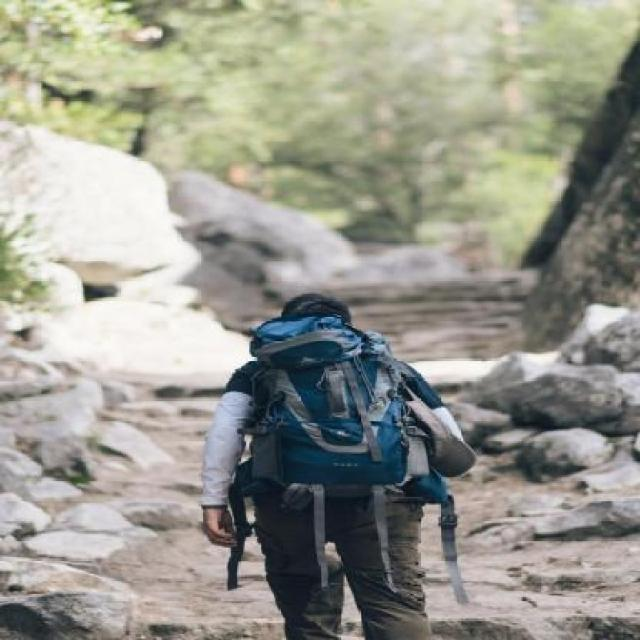backpack: (246, 314, 426, 494)
